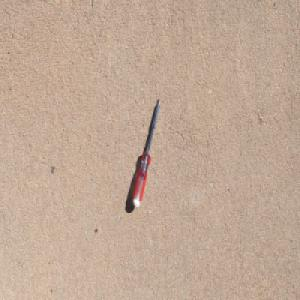Screwdriver: (131, 95, 161, 208)
